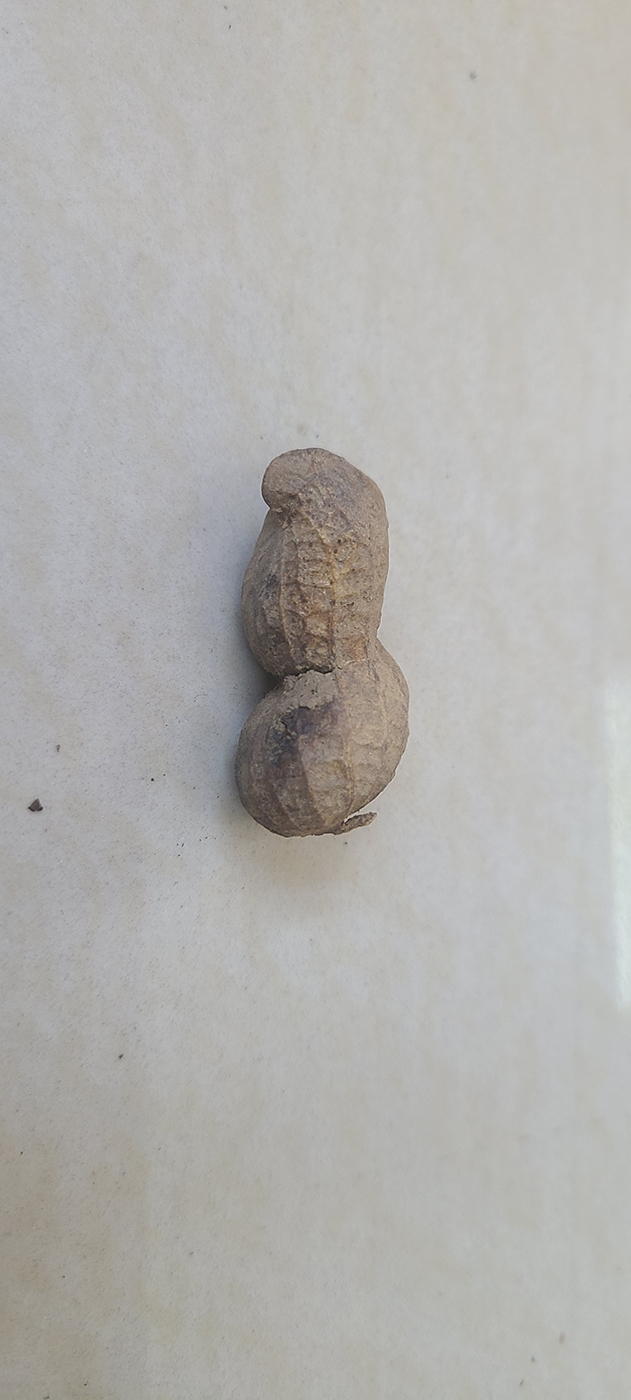l: (233, 446, 413, 842)
